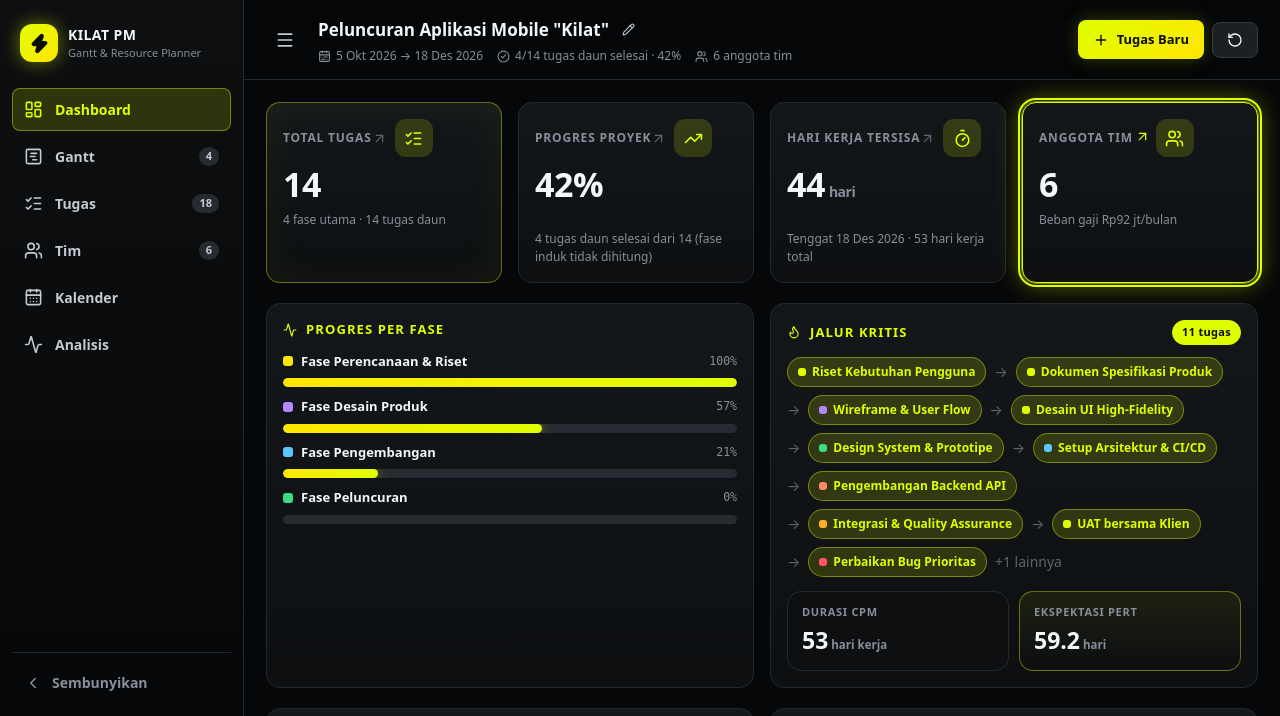
Dashboard — statistik tugas daun › membuat setiap kartu statistik bisa diklik dan bisa difokus dengan keyboard
Click the button with aria-label "Buka halaman Tim" at (1140, 192), box x1=1022 y1=102 x2=1258 y2=283
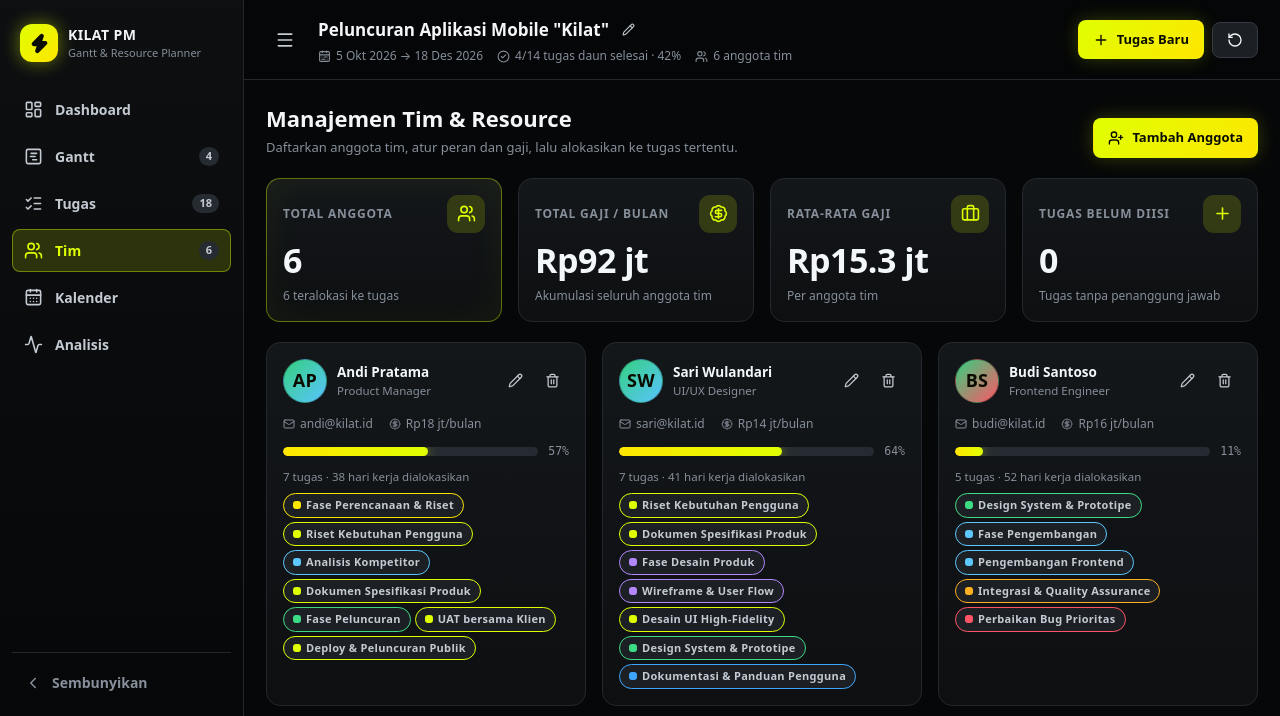
Result: the heading "Manajemen Tim & Resource" is shown at x1=266 y1=103 x2=572 y2=133
Click the button "Dashboard" at (122, 110), box x1=12 y1=88 x2=231 y2=131
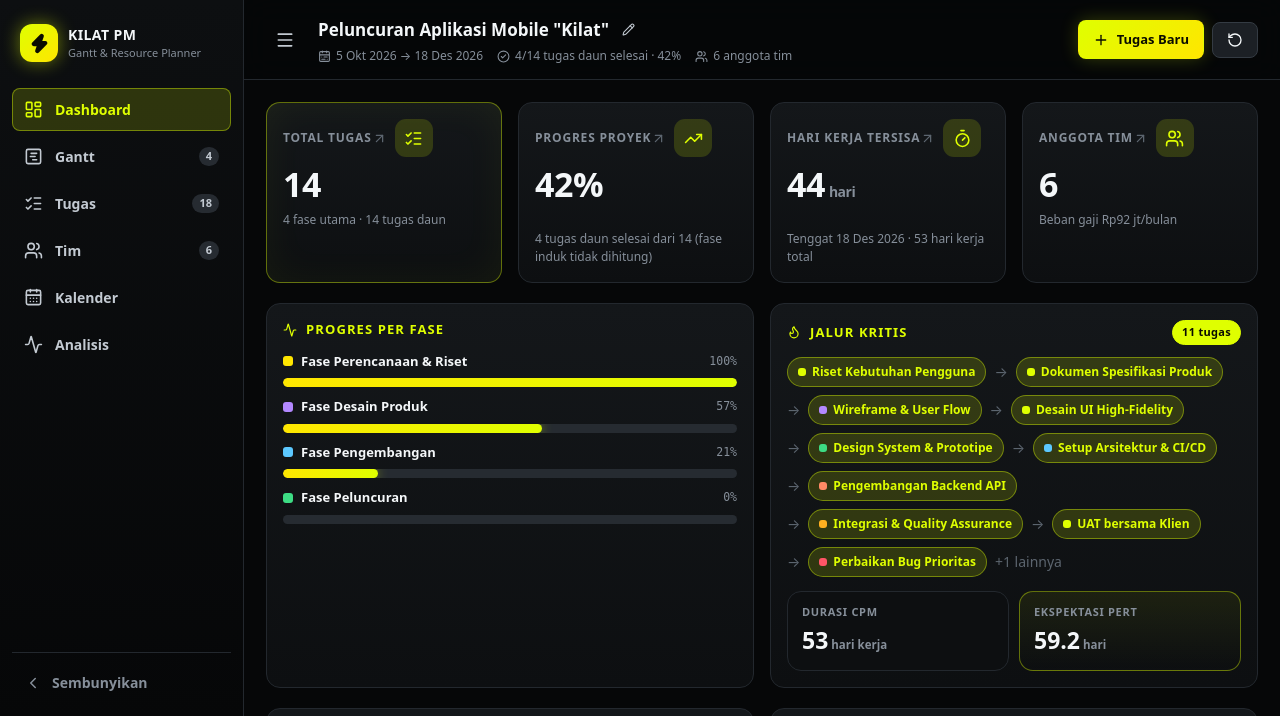
Click the button with aria-label "Buka halaman Gantt" at (888, 192), box x1=770 y1=102 x2=1006 y2=283
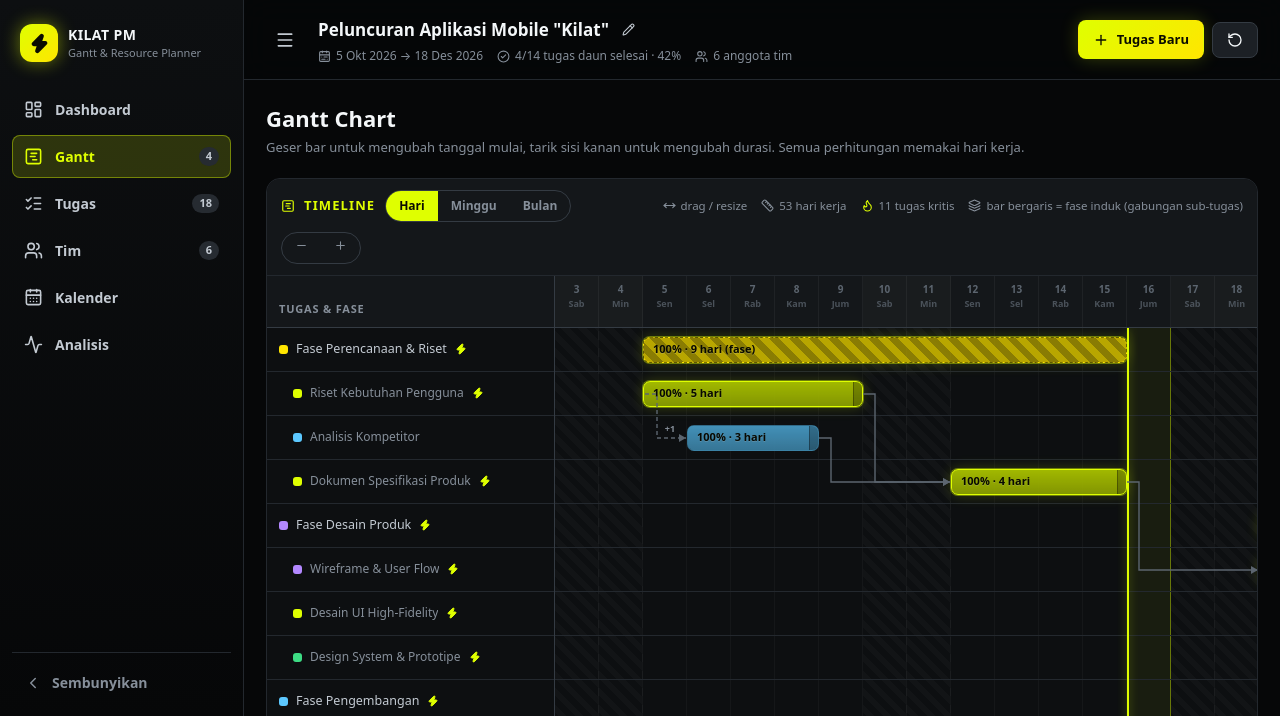
Result: the heading "Gantt Chart" is shown at x1=266 y1=103 x2=396 y2=133
Click the button "Dashboard" at (122, 110), box x1=12 y1=88 x2=231 y2=131
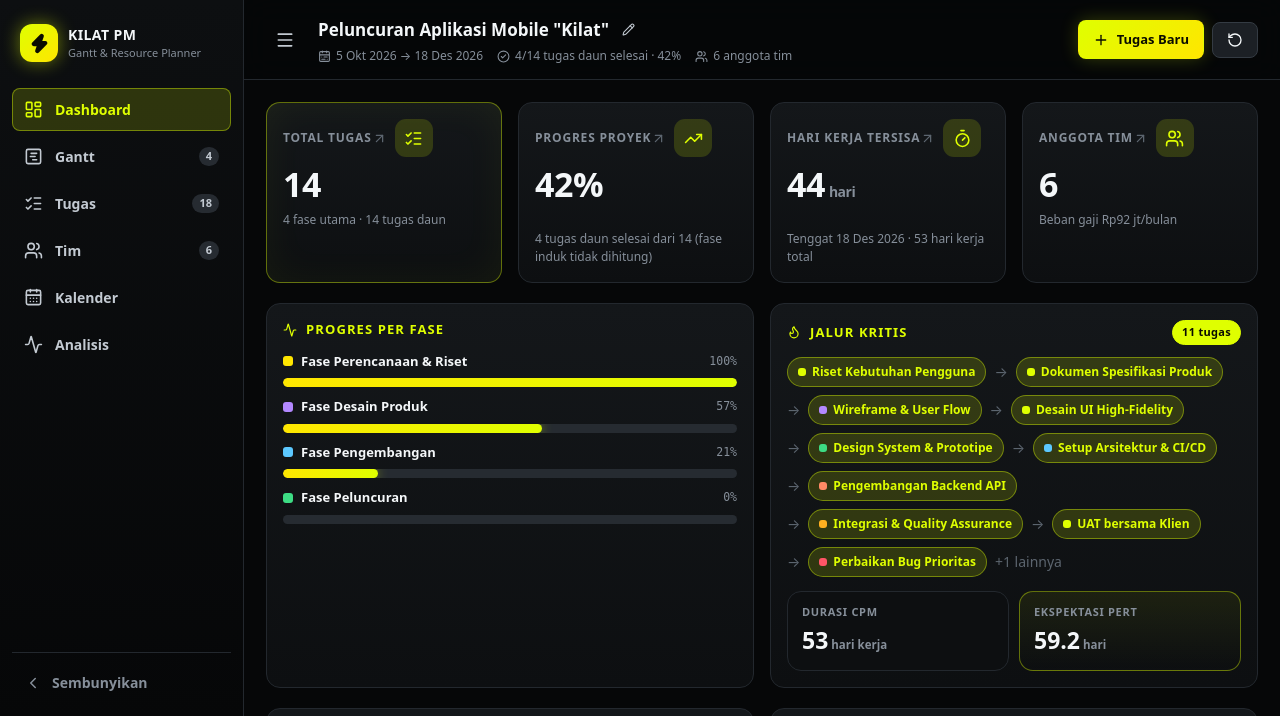
Click the button with aria-label "Buka halaman Analisis (durasi CPM)" at (898, 630), box x1=787 y1=590 x2=1009 y2=670
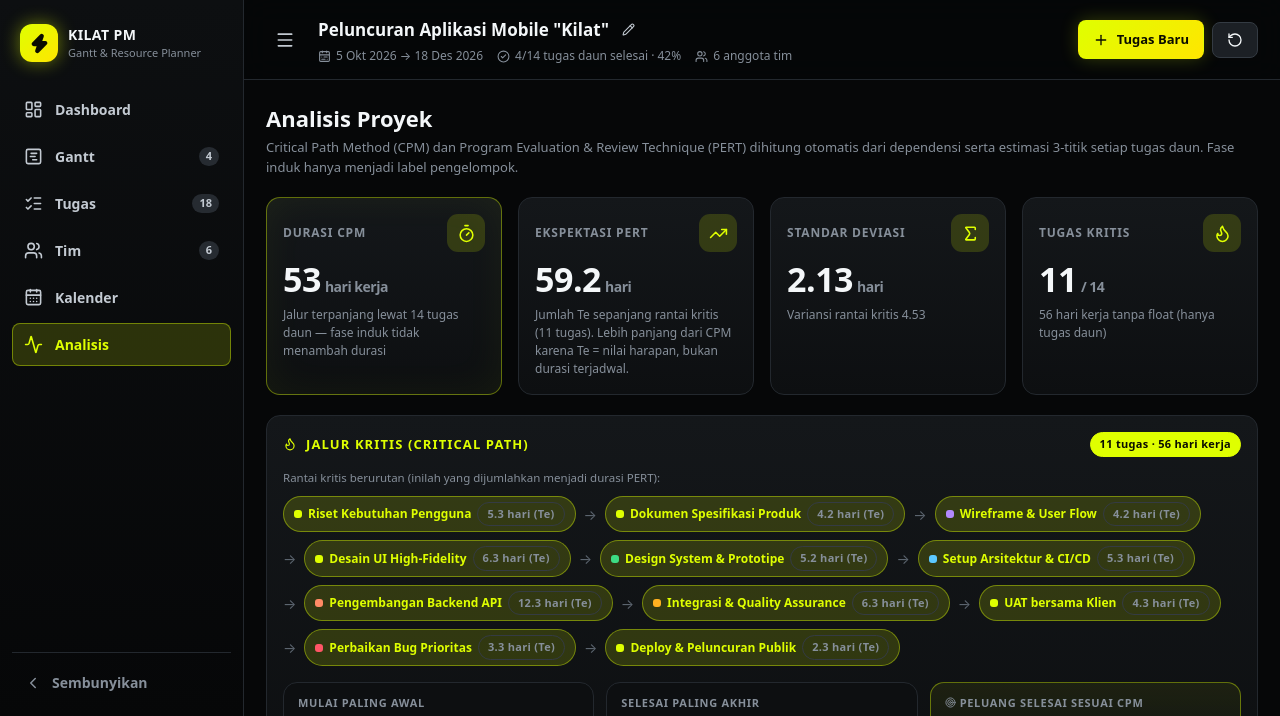
Result: the heading "Analisis Proyek" is shown at x1=266 y1=103 x2=432 y2=133
